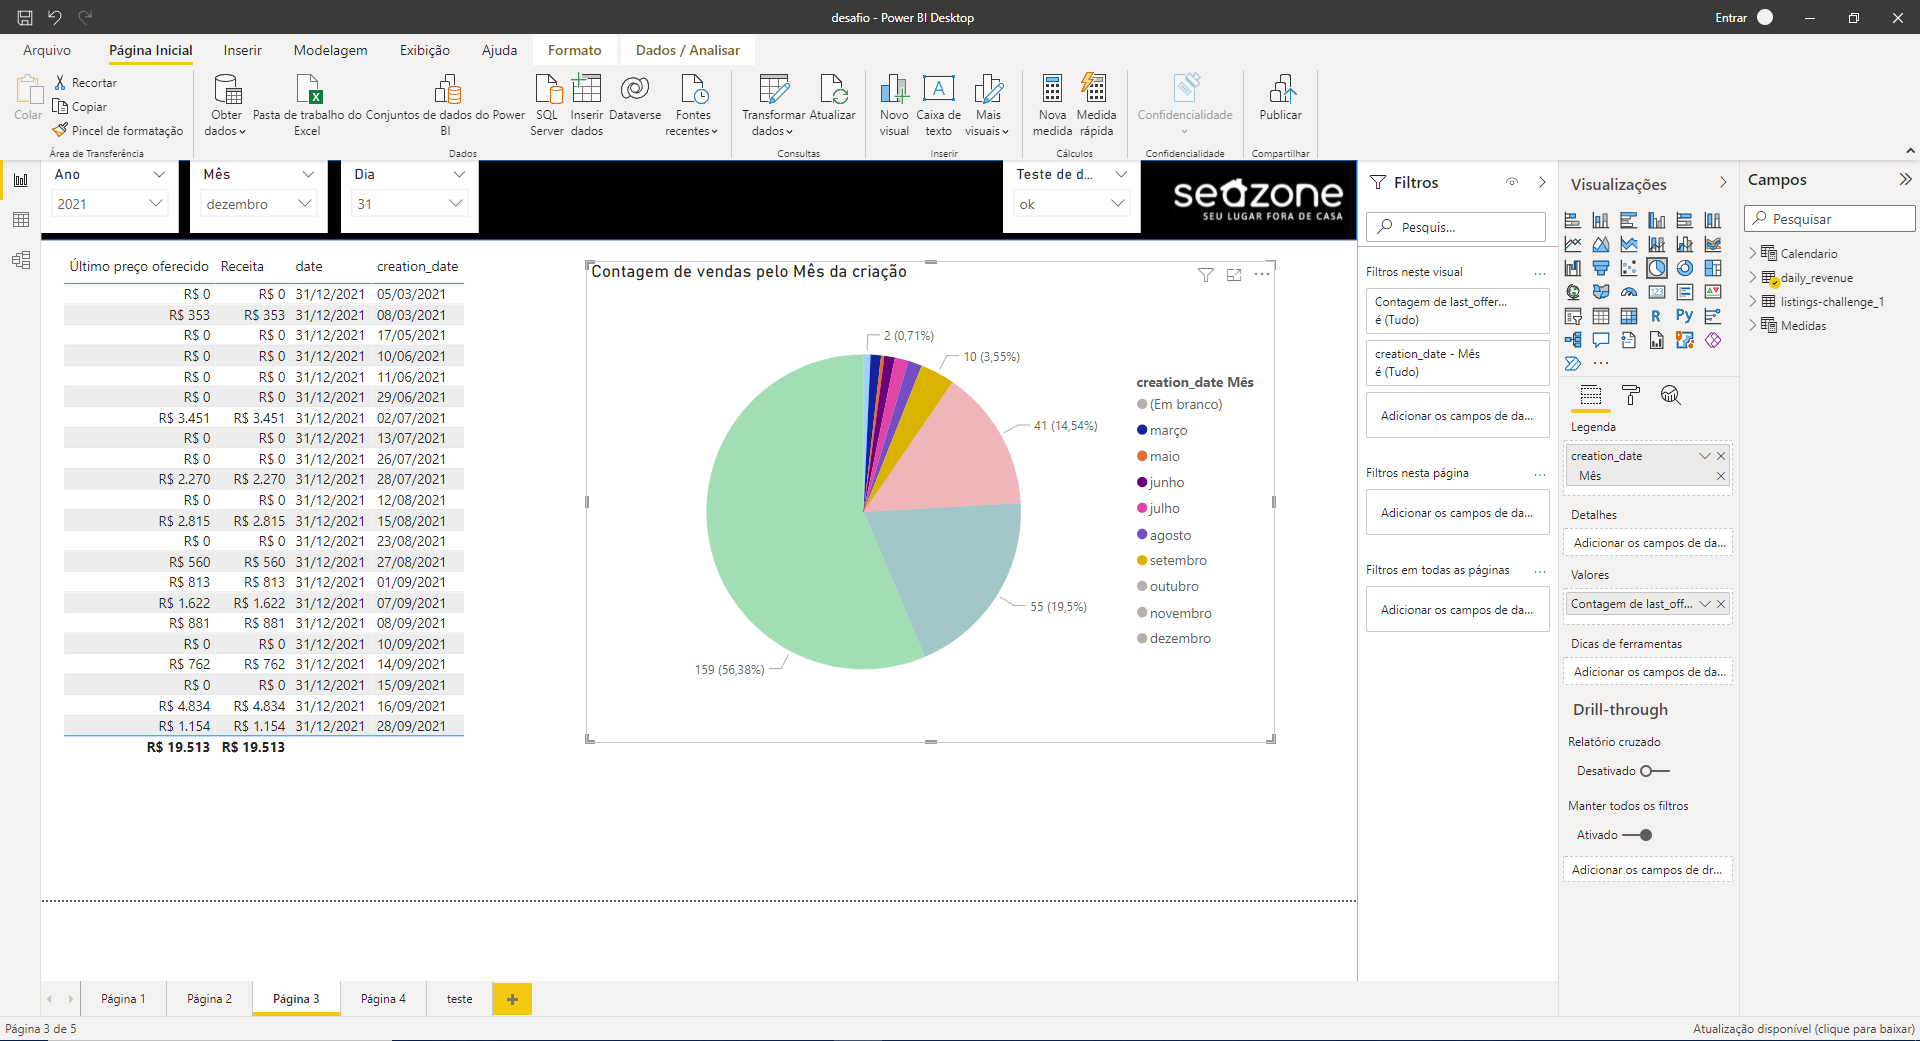

What the dashboard file says about the page in this screenshot:
{"tool":"powerbi","page":{"name":"Página 3","canvas":[1280,720],"ordinal":2},"visuals":[{"type":"tableEx","fields":{"Values":["Sum(daily_revenue.last_offered_price)","Sum(daily_revenue.revenue)","daily_revenue.date","daily_revenue.creation_date"]},"box":[16.5,87.5,447.4,632.2],"z":0},{"type":"shape","box":[0,0,1280,77.8],"z":1000},{"type":"slicer","fields":{"Values":["Calendario.Date.Variation.Hierarquia de datas.Ano"]},"box":[0,0,134.2,71],"z":2000},{"type":"image","box":[1097.1,0,175.1,77.8],"z":3000},{"type":"slicer","fields":{"Values":["daily_revenue.teste"]},"box":[935.7,0,134.2,71],"z":4000},{"type":"slicer","fields":{"Values":["Calendario.Date.Variation.Hierarquia de datas.Mês"]},"box":[144.9,0,134.2,71],"z":5000},{"type":"slicer","fields":{"Values":["Calendario.Date.Variation.Hierarquia de datas.Dia"]},"box":[291.8,0,134.2,71],"z":6000},{"type":"pieChart","title":"Contagem de vendas pelo Mês da criação","fields":{"Category":["daily_revenue.creation_date.Variation.Hierarquia de datas.Mês"],"Y":["CountNonNull(daily_revenue.last_offered_price)"]},"box":[530.1,98.2,670.2,468.8],"z":7000}]}

Visuals, with their boxes on the page's 1280x720 design canvas (x1, y1, x2, y2). These are canvas units, not pixel positions in the 1920x1041 screenshot, which may show the page scaled, cropped or inside an application window:
tableEx - Sum(daily_revenue.last_offered_price) x Sum(daily_revenue.revenue): (16, 88, 464, 720)
shape: (0, 0, 1280, 78)
slicer - Calendario.Date.Variation.Hierarquia de datas.Ano: (0, 0, 134, 71)
image: (1097, 0, 1272, 78)
slicer - daily_revenue.teste: (936, 0, 1070, 71)
slicer - Calendario.Date.Variation.Hierarquia de datas.Mês: (145, 0, 279, 71)
slicer - Calendario.Date.Variation.Hierarquia de datas.Dia: (292, 0, 426, 71)
"Contagem de vendas pelo Mês da criação" pieChart: (530, 98, 1200, 567)
